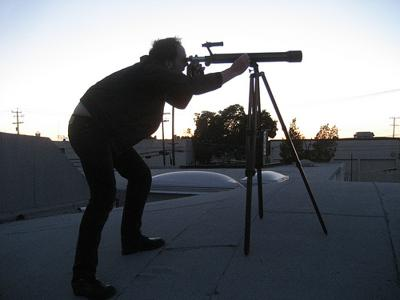person: (68, 38, 256, 297)
